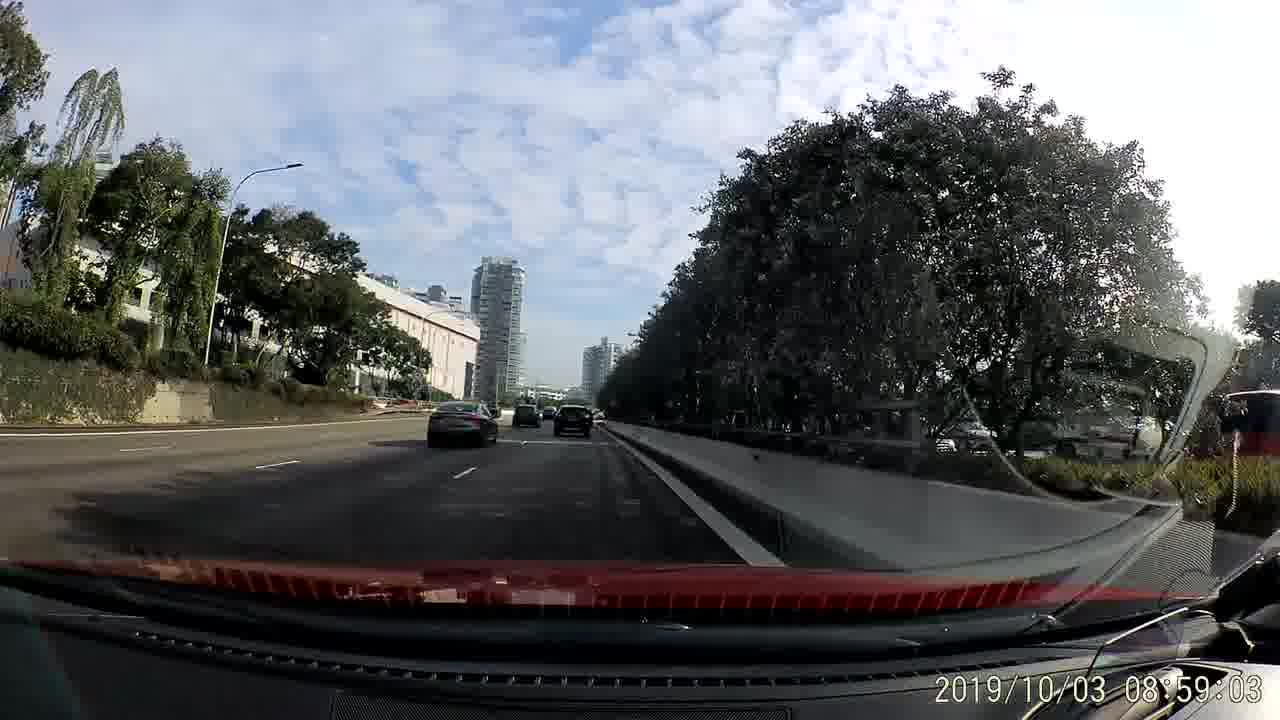car: (423, 397, 500, 451), (553, 403, 594, 442), (511, 402, 545, 428)
